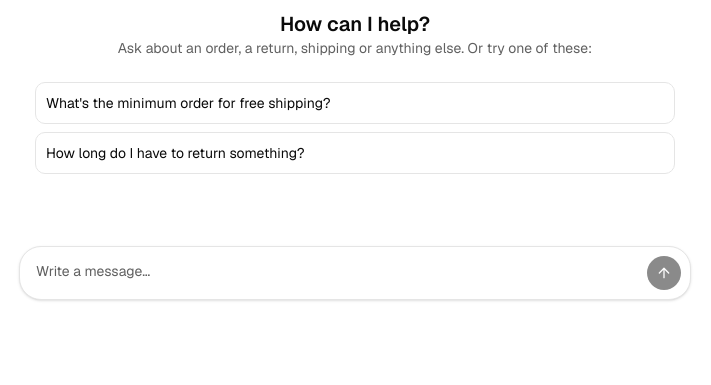
it: ChatPage › gives the message back when another turn is still running
Step 1. Type "Hello" into the text box labelled "message" → (337, 273), box [36, 255, 638, 291]
Then press Enter
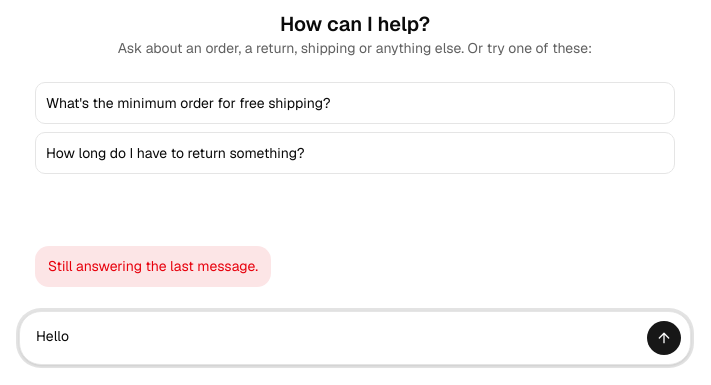
Expected: the message reads "Still answering the last message.", [48, 257, 258, 275]
